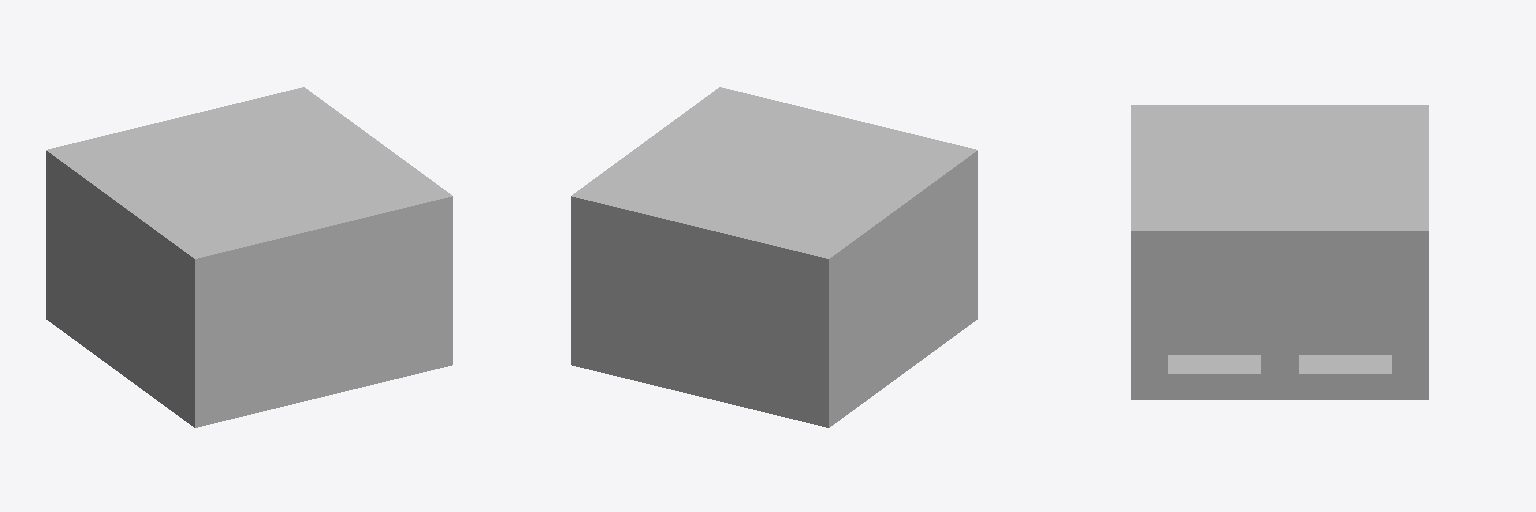
File: building_033.obj
3 views of the same model, side by side, from view 1: azimuth 30°, elevation 25°; view 2: azimuth 150°, elevation 25°; view 3: azimuth 270°, elevation 25° (orthographic).
Visible parts, largest first — view 1: building_033; view 2: building_033; view 3: building_033.
Part boxes in pixels (x1,y1,x2,y2): building_033: (46, 87, 452, 427); building_033: (571, 87, 977, 427); building_033: (1131, 105, 1428, 399).
Size of the model in its own units: 1.05 by 0.625 by 1.